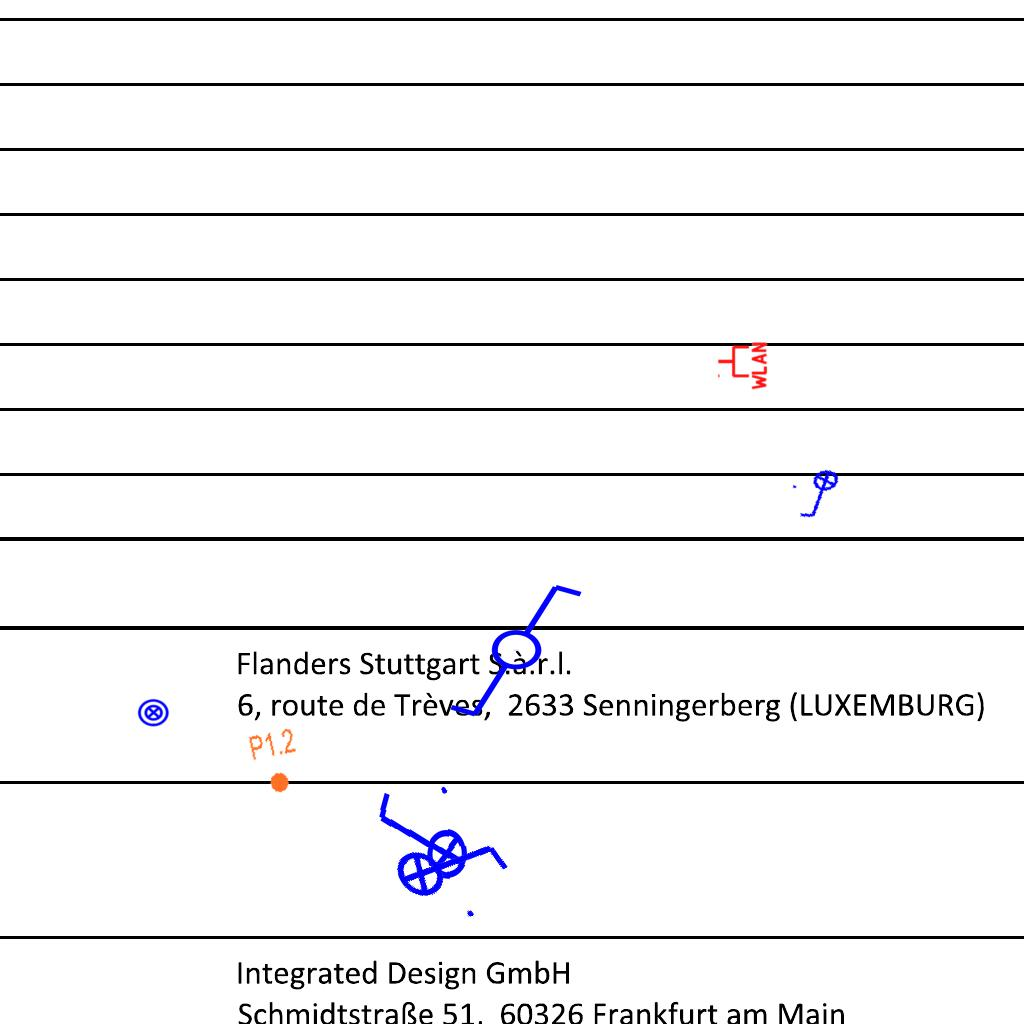Ausschalter_beleuchtet: (376, 791, 524, 937), (369, 779, 471, 897), (787, 465, 853, 525)
Downlight_LED_Einbauleuchten_Flur: (246, 725, 306, 799)
Taster_beleuchtet: (137, 696, 170, 729)
WLAN: (716, 340, 768, 392)
Wechselschalter: (446, 580, 603, 724)
